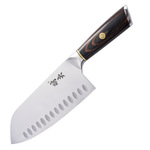knief: (6, 7, 141, 142)
